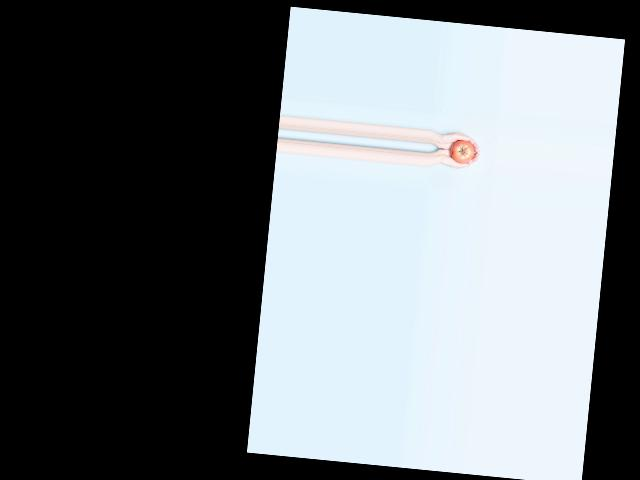tomato: (449, 138, 475, 164)
